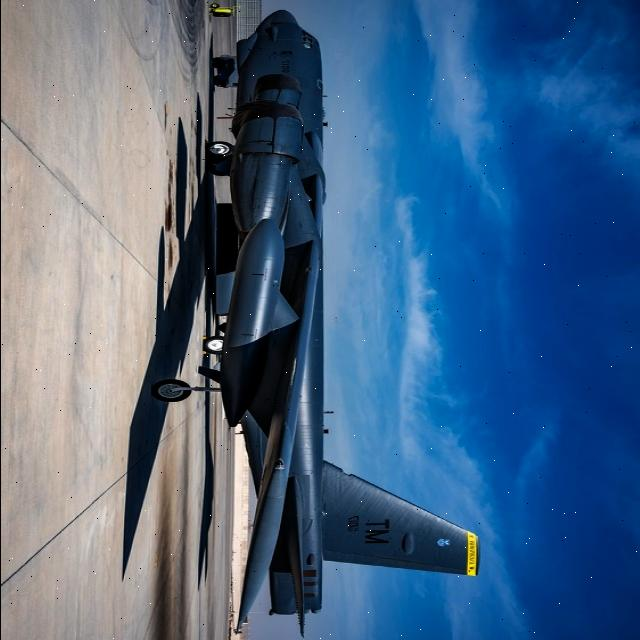B52: (90, 0, 549, 636)
